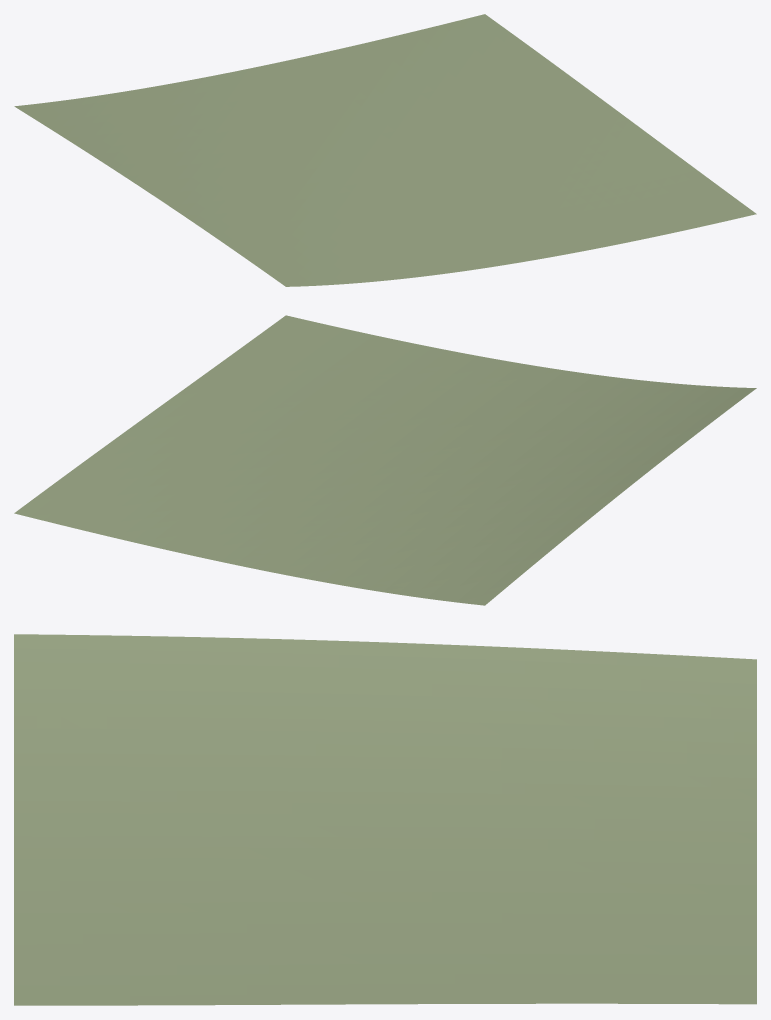
The model's file is expanse-31-24.glb.
The picture shows the model from 3 angles, top to bottom: view 1: azimuth 30°, elevation 25°; view 2: azimuth 150°, elevation 25°; view 3: azimuth 270°, elevation 25°; orthographic projection. The views are drawn at different scales.
Visible parts, largest first — view 1: expanse-31-24; view 2: expanse-31-24; view 3: expanse-31-24.
Part boxes in pixels (x1,y1,x2,y2): expanse-31-24: (14, 14, 756, 286); expanse-31-24: (14, 315, 756, 605); expanse-31-24: (14, 634, 756, 1005).
Size of the model in its own units: 256 by 21.87 by 256.
